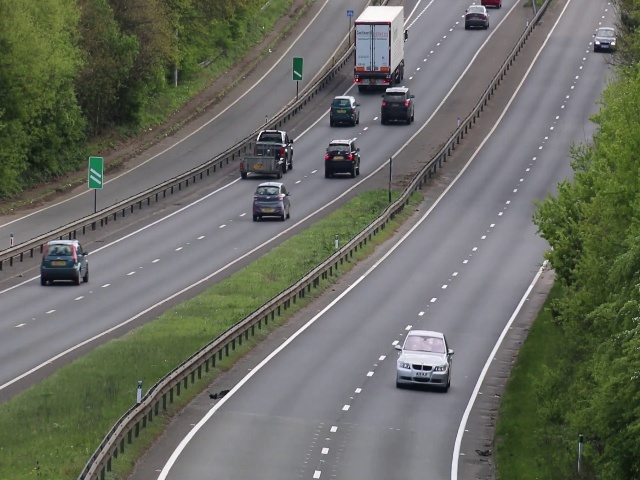car: (352, 3, 405, 91), (391, 326, 455, 393), (240, 130, 295, 176), (38, 239, 90, 286), (251, 178, 291, 225), (323, 138, 362, 179), (380, 86, 416, 126), (328, 93, 359, 131), (590, 23, 617, 56), (464, 1, 490, 30)
